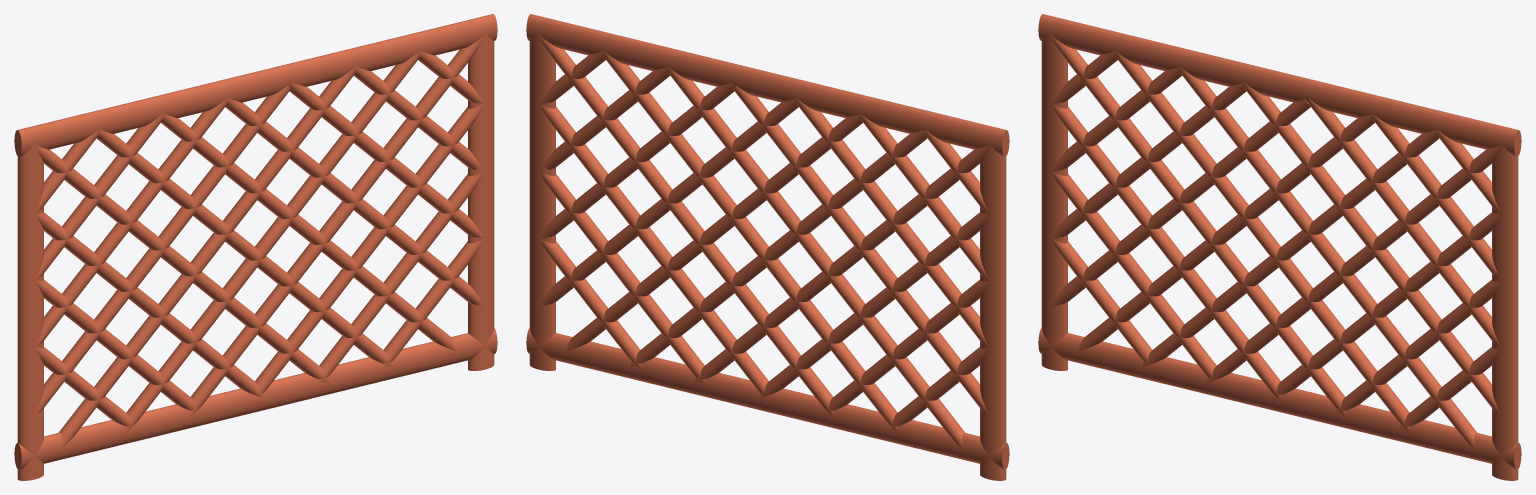
The model's file is GardenFence.glb.
3 renders of one model, left to right at view 1: azimuth 30°, elevation 25°; view 2: azimuth 150°, elevation 25°; view 3: azimuth 330°, elevation 25°, orthographic.
Parts seen in each view (by area): view 1: mast_middle (×24); view 2: mast_middle (×24); view 3: mast_middle (×24).
Part boxes in pixels (x1,y1,x2,y2): mast_middle (×24): (14,14,497,480); mast_middle (×24): (526,14,1009,480); mast_middle (×24): (1038,14,1521,480).
Size of the model in its own units: 1.48 by 1.04 by 0.0394.
